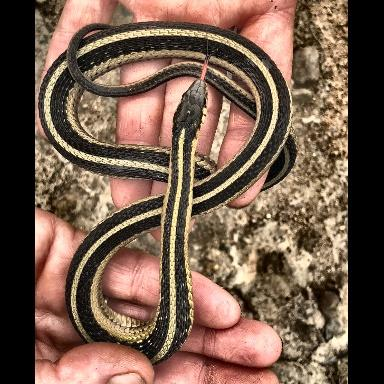snake: (38, 0, 295, 368)
